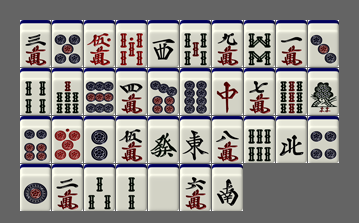0m: (84, 20, 115, 67)
0p: (52, 116, 83, 163)
0s: (116, 20, 147, 67)
1m: (276, 20, 307, 67)
1p: (20, 164, 51, 211)
1s: (308, 68, 339, 115)
1z: (180, 116, 211, 163)
2m: (52, 164, 83, 211)
2p: (84, 116, 115, 163)
2s: (116, 164, 147, 211)
2z: (212, 164, 243, 211)
3m: (20, 20, 51, 67)
3p: (308, 20, 339, 67)
3s: (84, 164, 115, 211)
3z: (148, 20, 179, 67)
4m: (116, 68, 147, 115)
4p: (308, 116, 339, 163)
4s: (20, 68, 51, 115)
4z: (276, 116, 307, 163)
5m: (116, 116, 147, 163)
5p: (52, 20, 83, 67)
5s: (180, 20, 211, 67)
5z: (148, 164, 179, 211)
6m: (180, 164, 211, 211)
6p: (20, 116, 51, 163)
6s: (244, 116, 275, 163)
6z: (148, 116, 179, 163)
7m: (244, 68, 275, 115)
7p: (148, 68, 179, 115)
7s: (52, 68, 83, 115)
7z: (212, 68, 243, 115)
8m: (212, 116, 243, 163)
8p: (180, 68, 211, 115)
8s: (244, 20, 275, 67)
9m: (212, 20, 243, 67)
9p: (84, 68, 115, 115)
9s: (276, 68, 307, 115)
